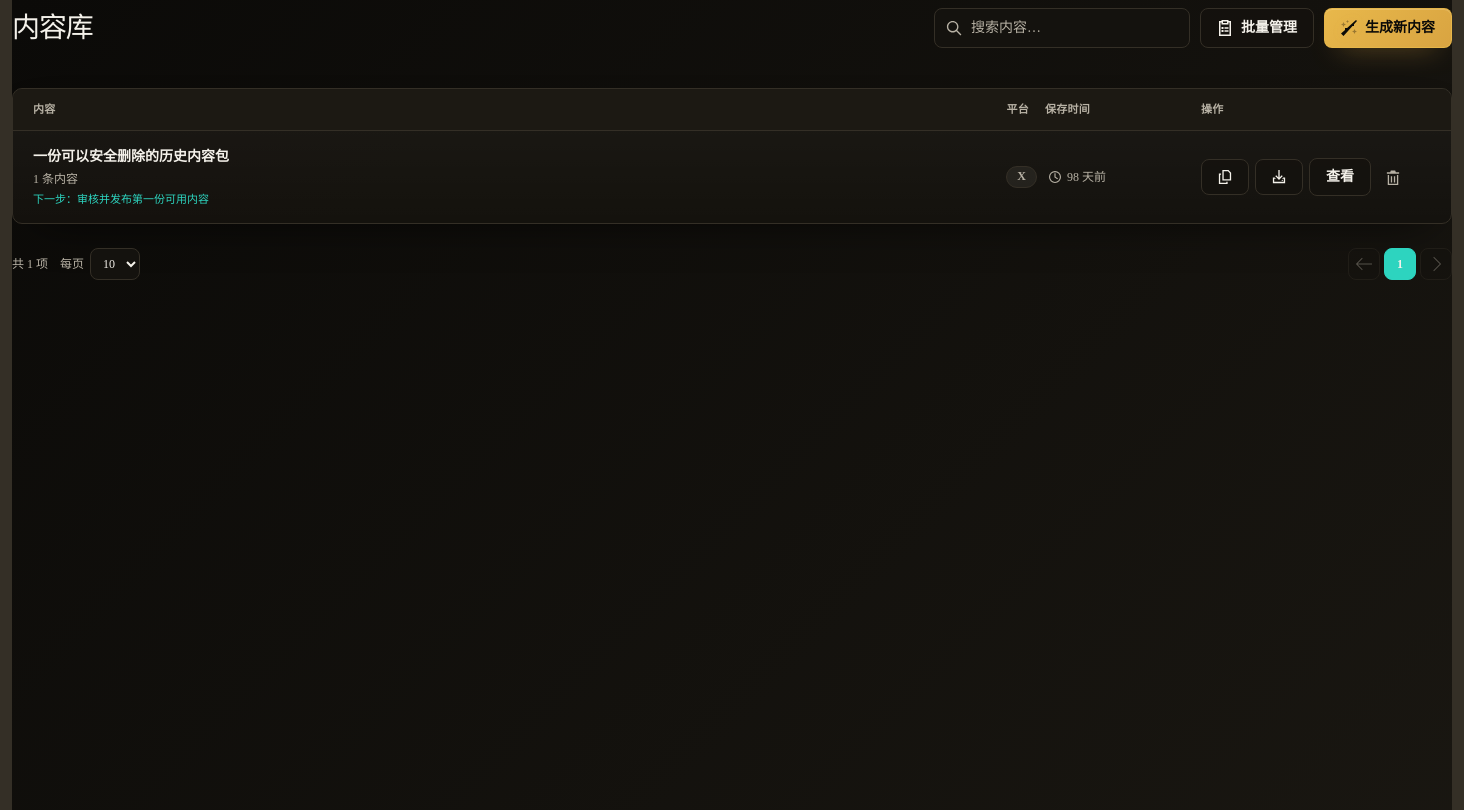
Test case: Content Library deletion › keeps the kit and explains an API failure inline
Expected: the text "一份可以安全删除的历史内容包" is shown, [33, 146, 229, 166]
Click the button named "删除: 一份可以安全删除" at (1393, 177), box [1377, 156, 1409, 198]
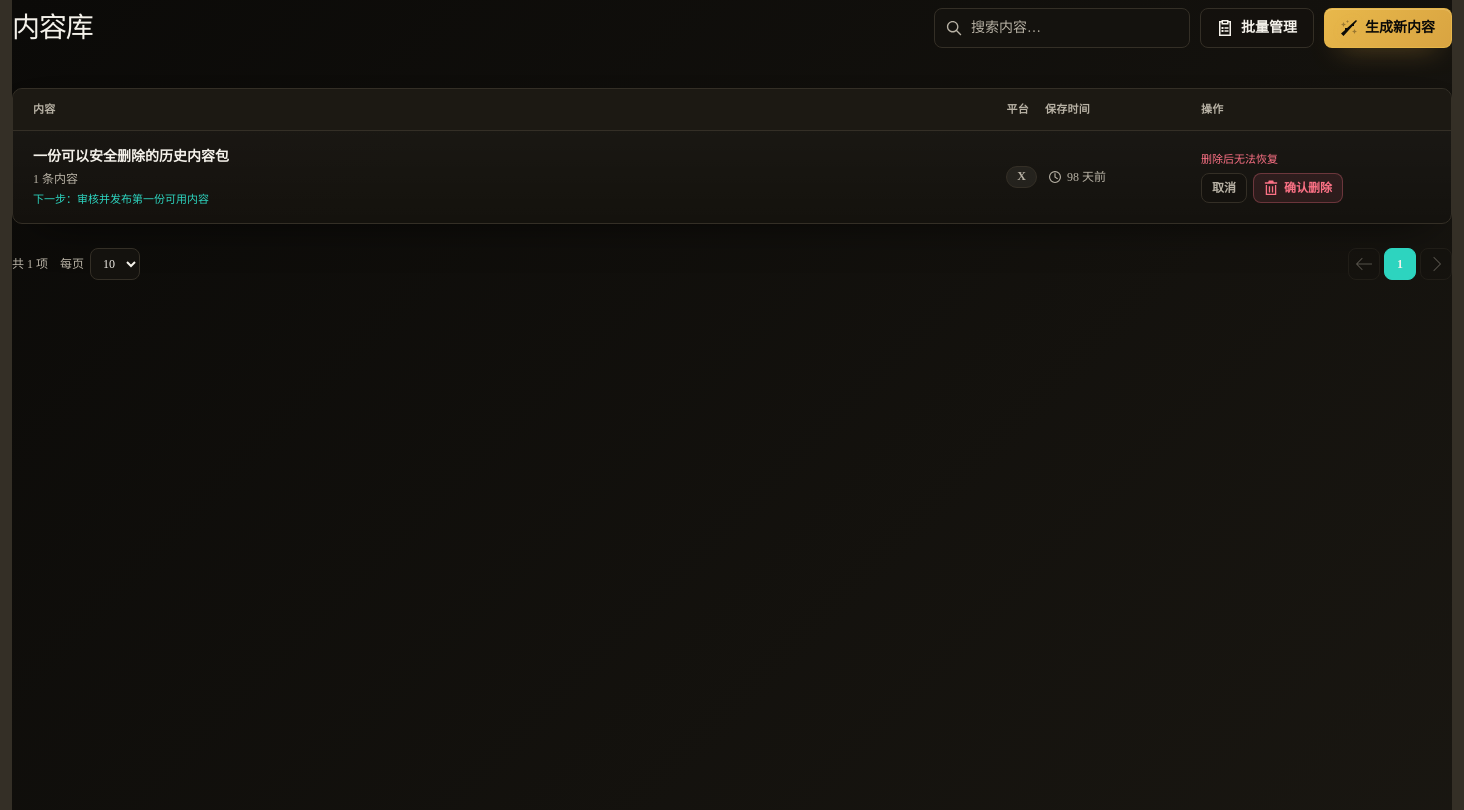
Click the button "确认删除" at (1298, 188), box [1253, 173, 1343, 203]
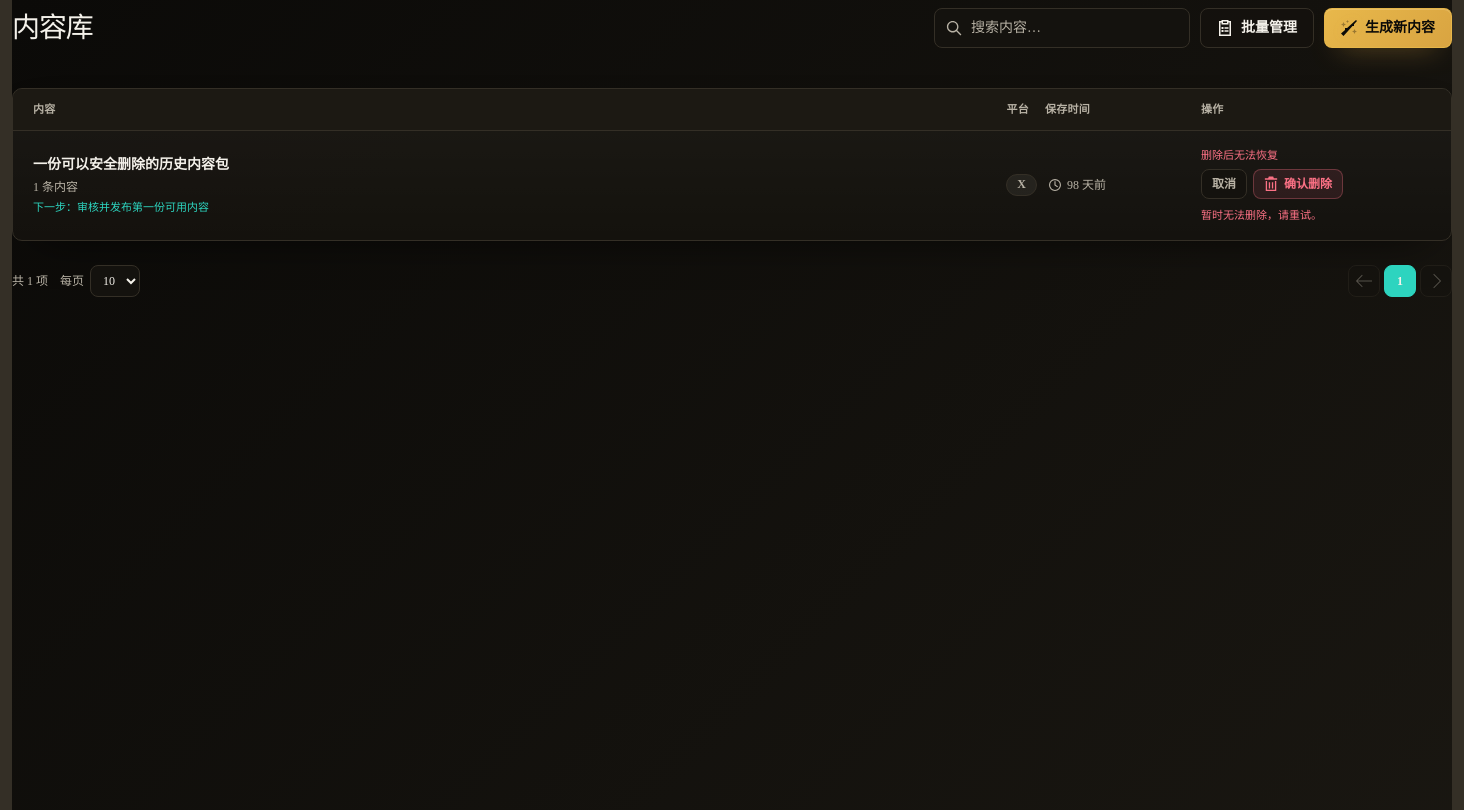
Expected: the text "一份可以安全删除的历史内容包" is shown, [33, 155, 229, 175]
Now the message reads "暂时无法删除，请重试。", box [1201, 209, 1322, 221]
